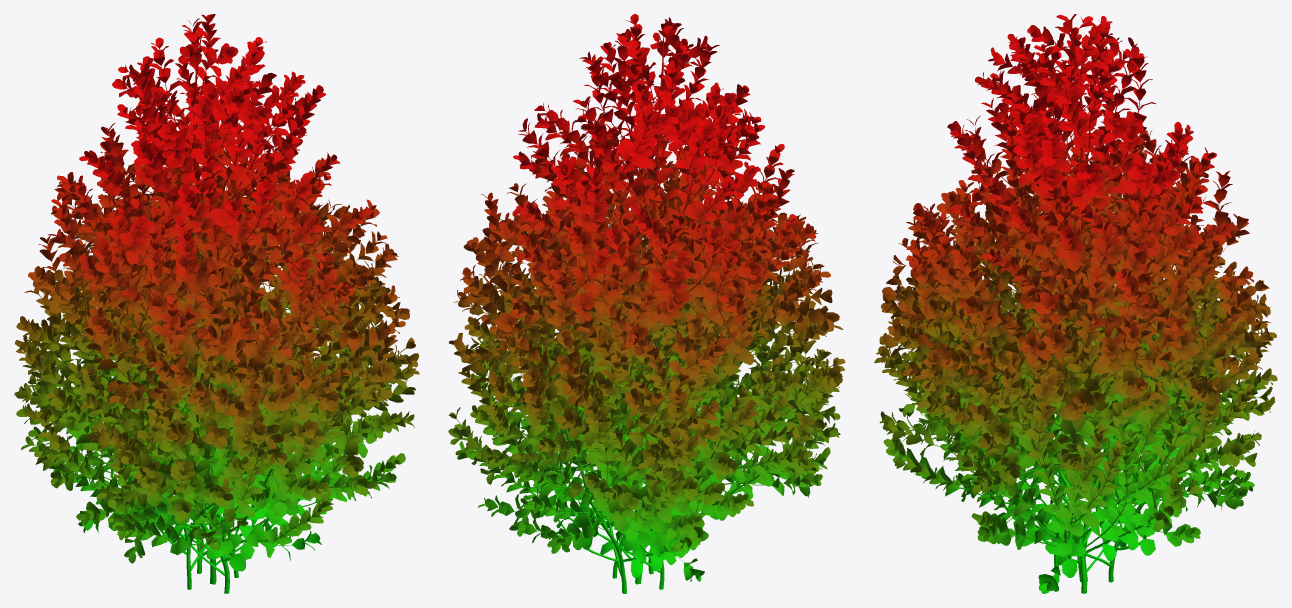
File: Var5_LOD1.fbx
3 renders of one model, left to right at view 1: azimuth 30°, elevation 25°; view 2: azimuth 150°, elevation 25°; view 3: azimuth 270°, elevation 25°, orthographic.
Visible parts, largest first — view 1: _z1ly_Var5_LOD1; view 2: _z1ly_Var5_LOD1; view 3: _z1ly_Var5_LOD1.
Boxes of the visible parts, x1,y1,x2,y2 form: _z1ly_Var5_LOD1: [14, 14, 419, 593]; _z1ly_Var5_LOD1: [448, 14, 845, 593]; _z1ly_Var5_LOD1: [874, 14, 1277, 593].
Bounding box in the file's own units: 80.68 × 123 × 80.06.
